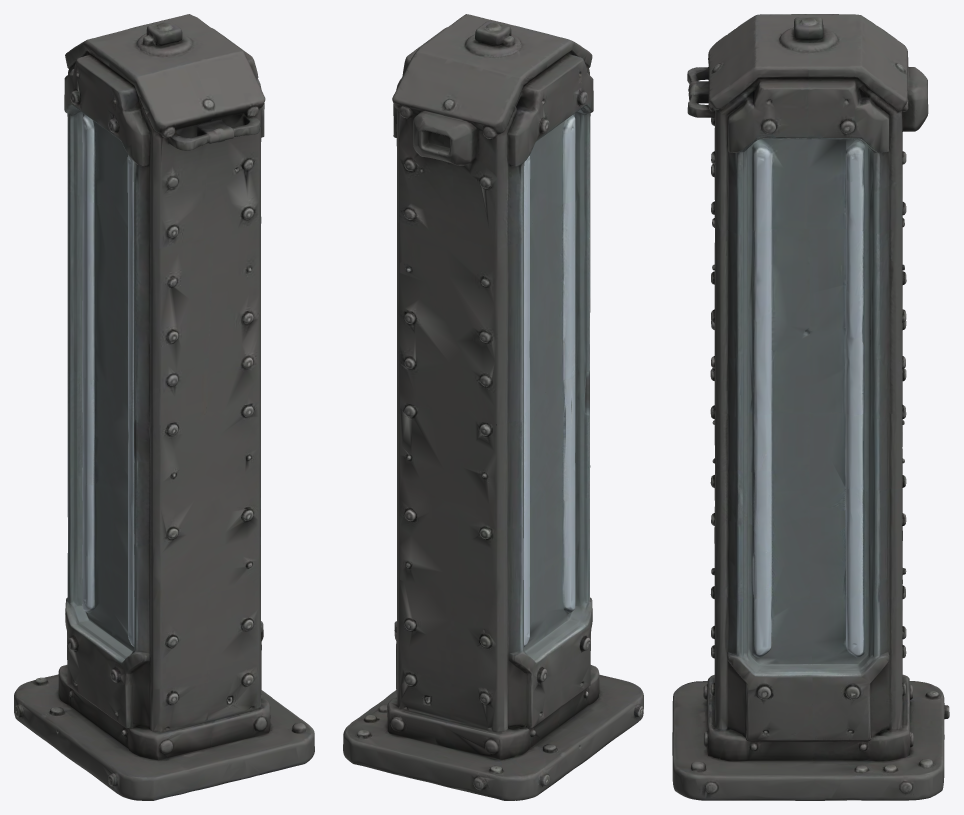
The model's file is security-2.glb.
The picture shows the model from 3 angles, left to right: view 1: azimuth 30°, elevation 25°; view 2: azimuth 150°, elevation 25°; view 3: azimuth 270°, elevation 25°; orthographic projection. The views are drawn at different scales.
Visible parts, largest first — view 1: tripo_node_bffad690-978d-495b-af50-7a5590e750c0; view 2: tripo_node_bffad690-978d-495b-af50-7a5590e750c0; view 3: tripo_node_bffad690-978d-495b-af50-7a5590e750c0.
Boxes of the visible parts, left/top/right/bottom form: tripo_node_bffad690-978d-495b-af50-7a5590e750c0: left=14, top=14, right=314, bottom=800; tripo_node_bffad690-978d-495b-af50-7a5590e750c0: left=343, top=14, right=643, bottom=800; tripo_node_bffad690-978d-495b-af50-7a5590e750c0: left=672, top=14, right=949, bottom=800.
Size of the model in its own units: 0.294 by 1 by 0.3424.
Materials: 1 (1 with a texture image).
